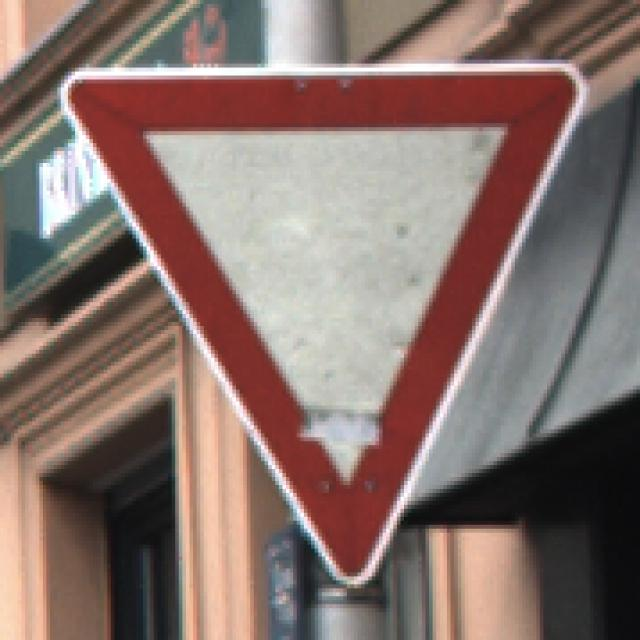Give Way: (55, 57, 587, 589)
